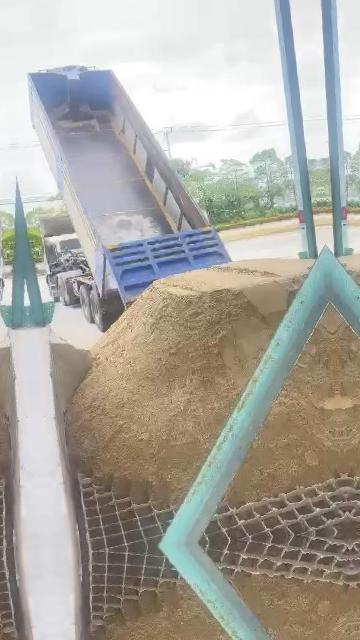sand: (67, 259, 311, 503), (229, 309, 344, 503), (52, 332, 93, 414)
